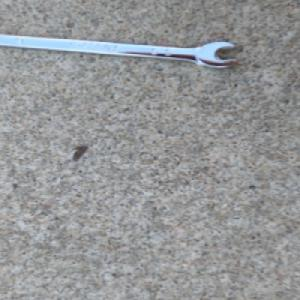Wrench: (0, 30, 242, 71)
